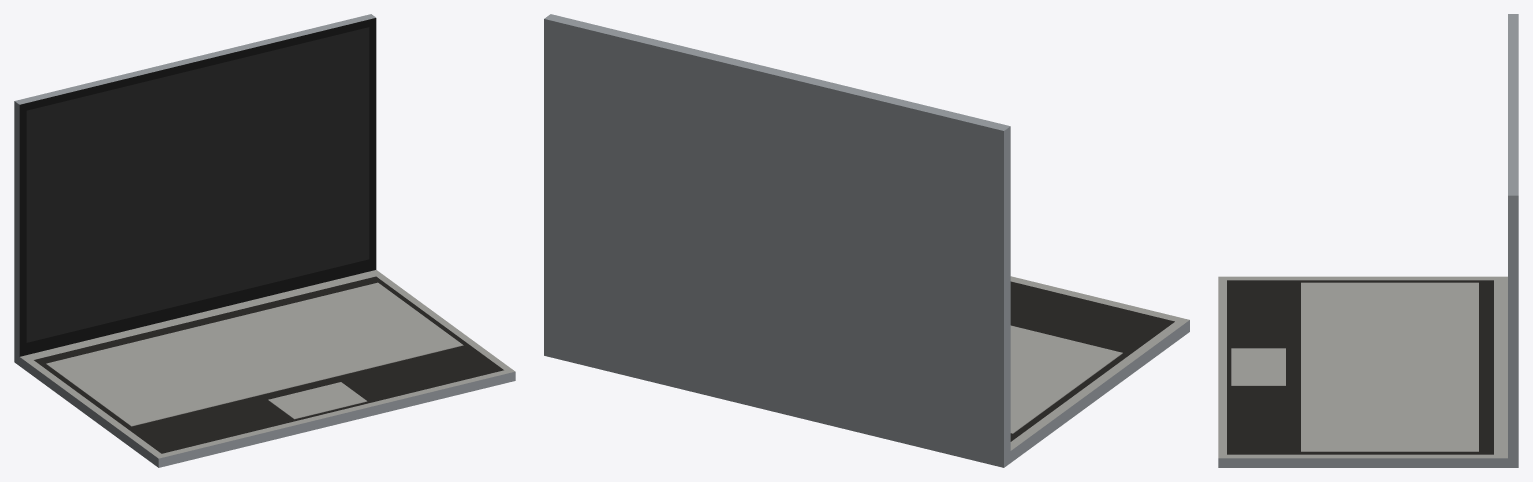
Rendered from Laptop.fbx.
The picture shows the model from 3 angles, left to right: view 1: azimuth 30°, elevation 25°; view 2: azimuth 150°, elevation 25°; view 3: azimuth 270°, elevation 25°; orthographic projection. The views are drawn at different scales.
Parts seen in each view (by area): view 1: polySurface1844; view 2: polySurface1844; view 3: polySurface1844.
Part boxes in pixels (x1=…): polySurface1844: x1=14, y1=14, x2=515, y2=467; polySurface1844: x1=544, y1=14, x2=1189, y2=467; polySurface1844: x1=1218, y1=14, x2=1518, y2=467.
Bounding box in the file's own units: 0.6 × 0.42 × 0.42.
Materials: 1 (1 with a texture image).
